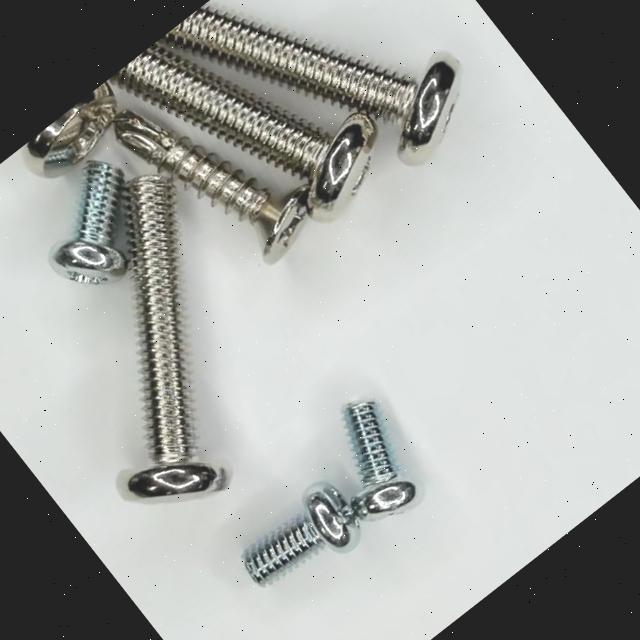Screw: (114, 42, 378, 221), (161, 7, 461, 163), (124, 174, 229, 499), (114, 110, 307, 263), (244, 485, 360, 587), (50, 159, 127, 283), (345, 401, 418, 521), (28, 81, 116, 175), (368, 482, 416, 517)
